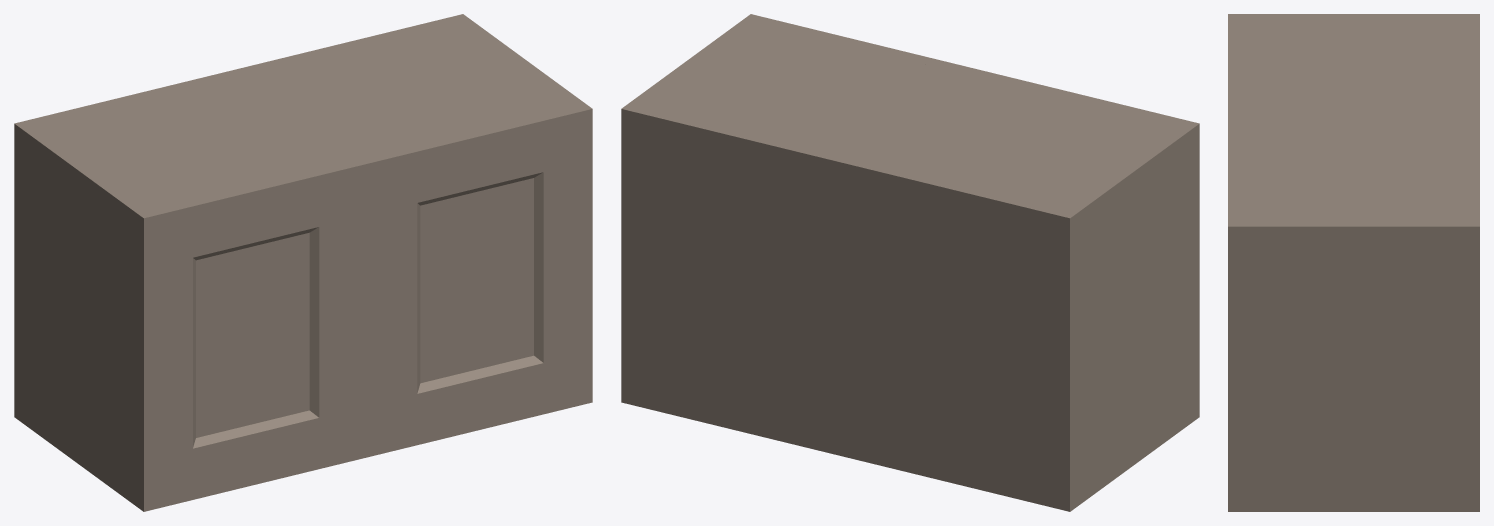
Rendered from 12-15-High-12-Deep.std.glb.
The picture shows the model from 3 angles, left to right: view 1: azimuth 30°, elevation 25°; view 2: azimuth 150°, elevation 25°; view 3: azimuth 270°, elevation 25°; orthographic projection. The views are drawn at different scales.
Parts seen in each view (by area): view 1: 12-15-High-12-Deep.std.001; view 2: 12-15-High-12-Deep.std.001; view 3: 12-15-High-12-Deep.std.001.
Boxes of the visible parts, x1,y1,x2,y2 form: 12-15-High-12-Deep.std.001: (14, 14, 592, 511); 12-15-High-12-Deep.std.001: (621, 14, 1199, 511); 12-15-High-12-Deep.std.001: (1228, 14, 1479, 511).
Size of the model in its own units: 0.6096 by 0.381 by 0.3048.
